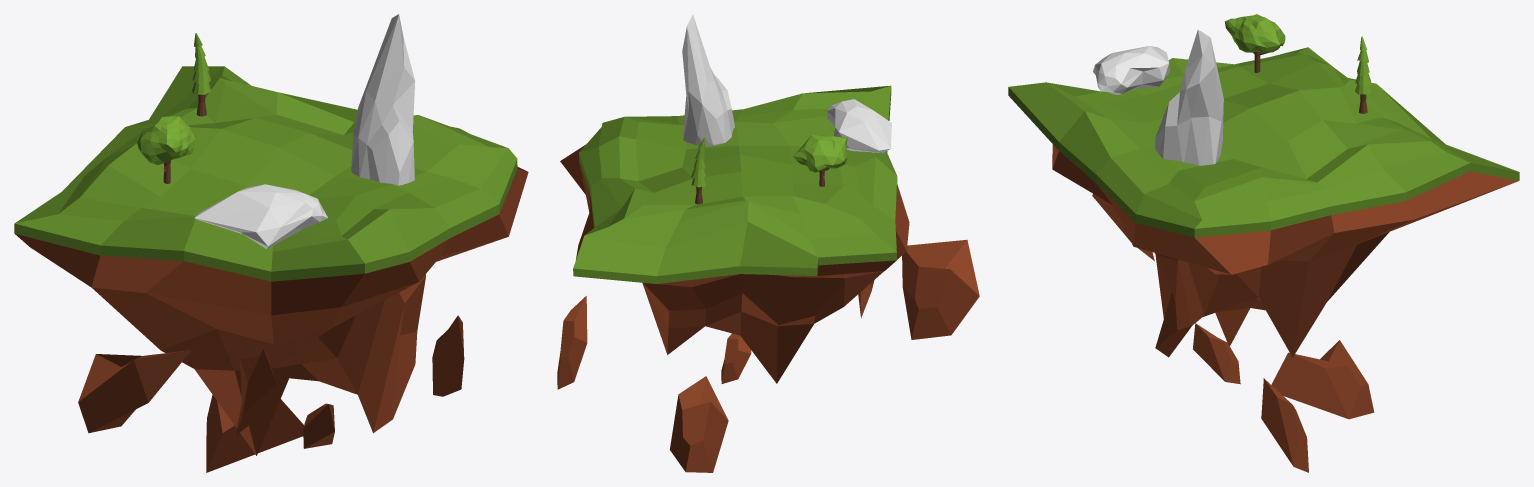
Rendered from forest_3d_model.glb.
The picture shows the model from 3 angles, left to right: view 1: azimuth 30°, elevation 25°; view 2: azimuth 150°, elevation 25°; view 3: azimuth 270°, elevation 25°; orthographic projection. The views are drawn at different scales.
Parts seen in each view (by area): view 1: L1.002, r10.001, cloud2.001, t3-green.001, t4-green.001; view 2: L1.002, r10.001, cloud2.001, t3-green.001, t4-green.001; view 3: L1.002, r10.001, cloud2.001, t3-green.001, t4-green.001.
Boxes of the visible parts, x1,y1,x2,y2 form: L1.002: [14, 66, 528, 472]; r10.001: [351, 14, 415, 185]; cloud2.001: [194, 184, 327, 248]; t3-green.001: [137, 116, 195, 183]; t4-green.001: [192, 33, 211, 116]; L1.002: [557, 85, 979, 472]; r10.001: [682, 14, 734, 146]; cloud2.001: [827, 99, 891, 153]; t3-green.001: [793, 135, 847, 186]; t4-green.001: [691, 137, 706, 204]; L1.002: [1008, 47, 1519, 472]; r10.001: [1154, 29, 1223, 165]; cloud2.001: [1093, 46, 1169, 94]; t3-green.001: [1224, 14, 1285, 72]; t4-green.001: [1355, 36, 1371, 113].
Size of the model in its own units: 62.36 by 59.88 by 64.41.
